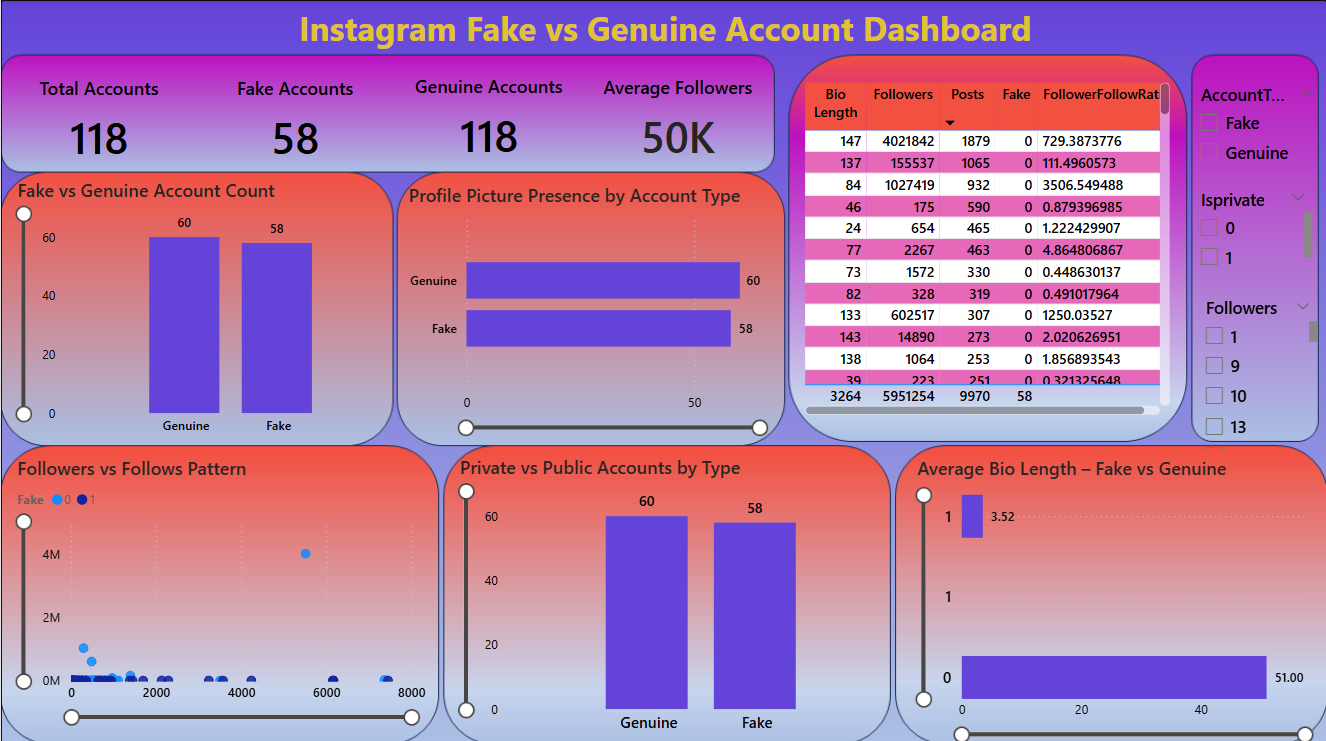

Layout of this report page (visuals, bound fields, positions):
{"tool":"powerbi","page":{"name":"Page 1","canvas":[1280,720],"ordinal":0},"visuals":[{"type":"textbox","box":[10.3,0,1260.7,56.7],"z":0},{"type":"cardVisual","fields":{"Data":["CountNonNull(test.Fake)"]},"box":[0,56.7,189.3,114.6],"z":1000},{"type":"cardVisual","fields":{"Data":["CountNonNull(test.Fake)"]},"box":[189.3,56.7,189.3,114.6],"z":2000},{"type":"cardVisual","fields":{"Data":["CountNonNull(test.Fake)"]},"box":[378.6,54.1,184.1,115.9],"z":3000},{"type":"cardVisual","fields":{"Data":["Avg(test.Followers)"]},"box":[562.7,55.4,182.9,115.9],"z":4000},{"type":"clusteredColumnChart","title":"Fake vs Genuine Account Count","fields":{"Category":["test.AccountType"],"Y":["CountNonNull(test.Followers)"]},"box":[10.3,171.3,378.6,257.5],"z":5000},{"type":"barChart","title":"Profile Picture Presence by Account Type","fields":{"Y":["CountNonNull(test.profilepic)"],"Category":["test.AccountType"]},"box":[388.9,176.4,356.7,247.2],"z":6000},{"type":"columnChart","title":"Private vs Public Accounts by Type","fields":{"Y":["CountNonNull(test.Isprivate)"],"Category":["test.AccountType"]},"box":[437.8,439.1,432.7,279.4],"z":7000},{"type":"scatterChart","title":"Followers vs Follows Pattern","fields":{"Y":["Avg(test.Followers)"],"X":["test.Follows"],"Series":["test.Fake"]},"box":[10.3,440.4,404.3,262.7],"z":8000},{"type":"clusteredBarChart","title":"Average Bio Length – Fake vs Genuine","fields":{"Y":["Avg(test.BioLength)"],"Category":["test.Fake"]},"box":[879.5,440.4,391.5,279.4],"z":9000},{"type":"slicer","fields":{"Values":["test.AccountType"]},"box":[1144.8,74.7,135.2,96.6],"z":10000},{"type":"slicer","fields":{"Values":["test.Isprivate"]},"box":[1144.8,176.4,126.2,88.9],"z":11000},{"type":"slicer","fields":{"Values":["test.Followers"]},"box":[1149.9,280.7,126.2,158.4],"z":12000},{"type":"tableEx","fields":{"Values":["Sum(test.BioLength)","Sum(test.Followers)","Sum(test.Posts)","Sum(test.Fake)","test.FollowerFollowRatio"]},"box":[770.1,74.7,363.1,330.9],"z":13000}]}

Visuals, with their boxes in screenshot pixels (x1, y1, x2, y2), scaled from the page's 1280x720 canvas onto the 1326x741 screenshot:
textbox: <box>11,0,1317,58</box>
cardVisual - CountNonNull(test.Fake): <box>0,58,196,176</box>
cardVisual - CountNonNull(test.Fake): <box>196,58,392,176</box>
cardVisual - CountNonNull(test.Fake): <box>392,56,583,175</box>
cardVisual - Avg(test.Followers): <box>583,57,772,176</box>
"Fake vs Genuine Account Count" clusteredColumnChart: <box>11,176,403,441</box>
"Profile Picture Presence by Account Type" barChart: <box>403,182,772,436</box>
"Private vs Public Accounts by Type" columnChart: <box>454,452,902,739</box>
"Followers vs Follows Pattern" scatterChart: <box>11,453,429,724</box>
"Average Bio Length – Fake vs Genuine" clusteredBarChart: <box>911,453,1317,740</box>
slicer - test.AccountType: <box>1186,77,1325,176</box>
slicer - test.Isprivate: <box>1186,182,1317,273</box>
slicer - test.Followers: <box>1191,289,1322,452</box>
tableEx - Sum(test.BioLength) x Sum(test.Followers): <box>798,77,1174,417</box>
